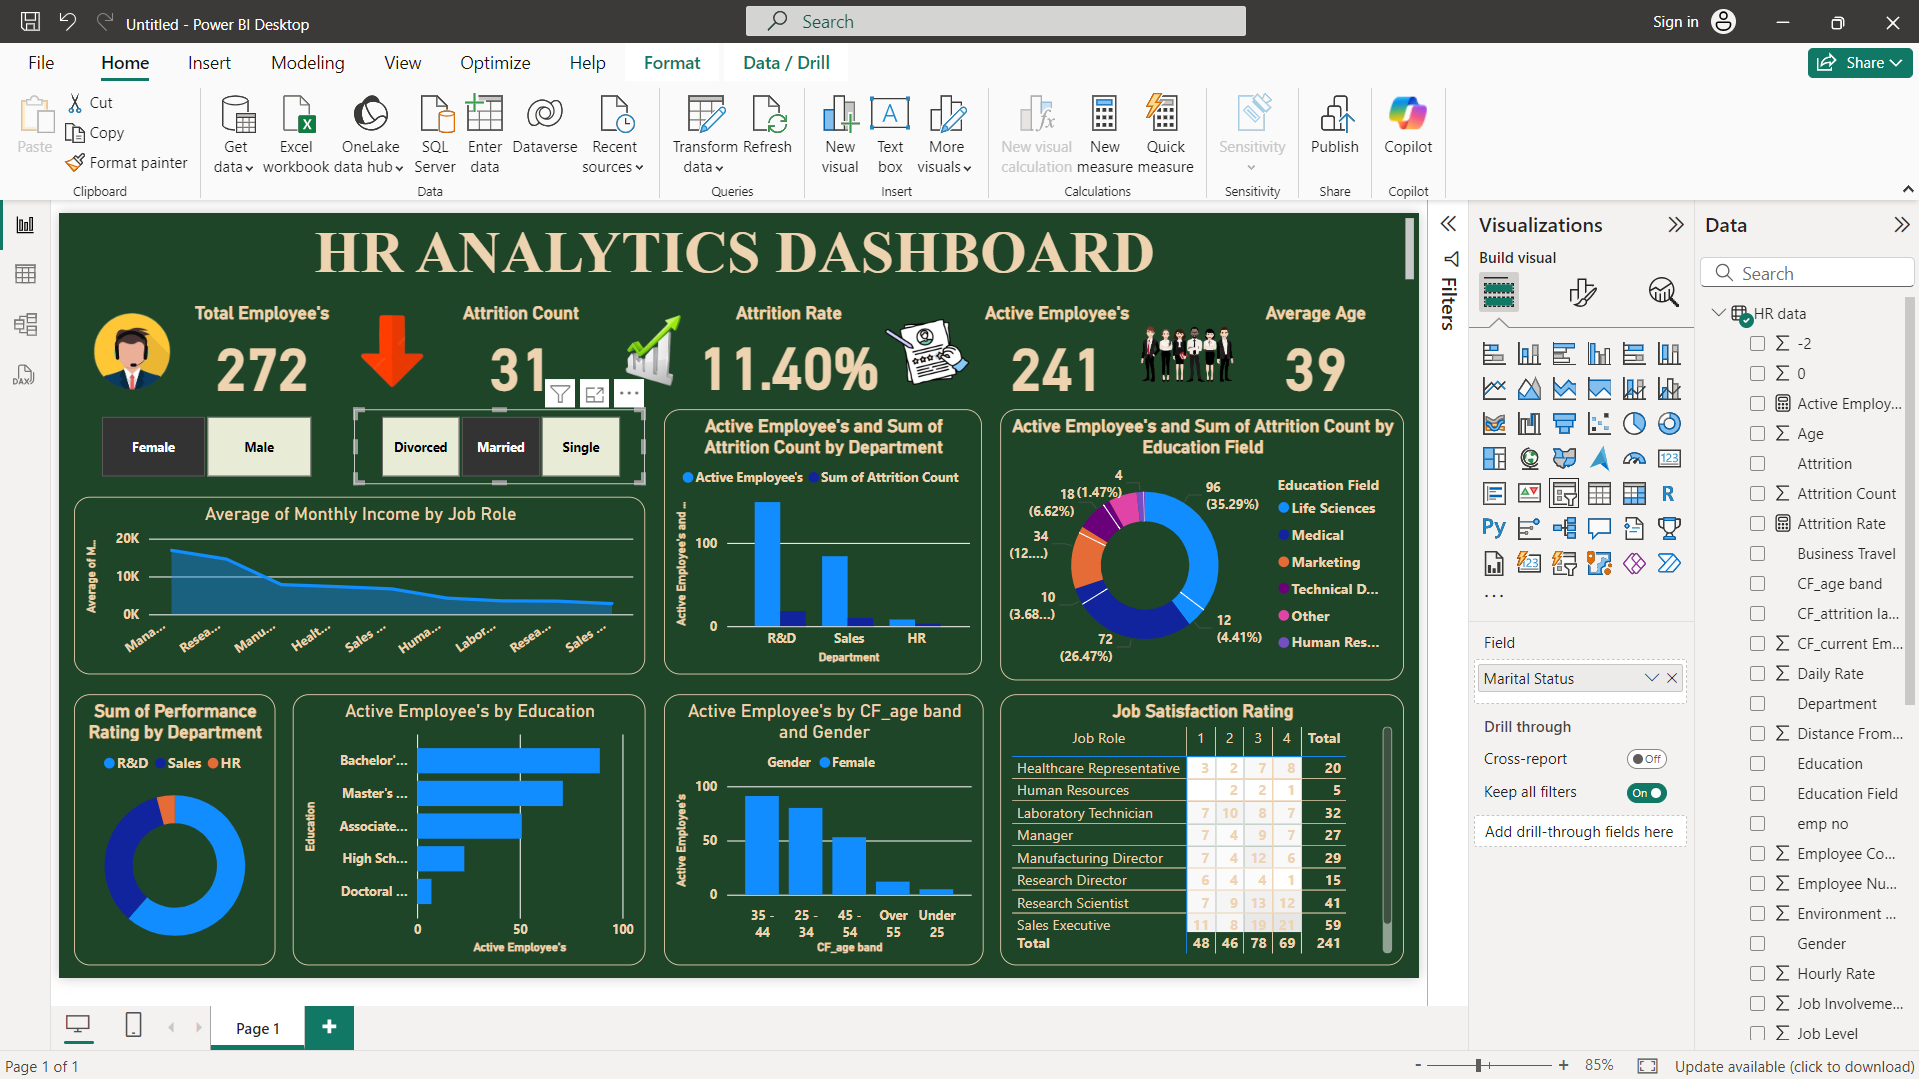

What the dashboard file says about the page in this screenshot:
{"tool":"powerbi","page":{"name":"Page 1","canvas":[1280,720],"ordinal":0},"visuals":[{"type":"card","title":"Total Employee''s","fields":{"Values":["Sum(HR data.Employee Count)"]},"box":[108.2,83.1,166,94.7],"z":0},{"type":"clusteredColumnChart","fields":{"Category":["HR data.Department"],"Y":["HR data.Active Employee's","Sum(HR data.Attrition Count)"]},"box":[569.5,185.2,299.1,249.7],"z":0},{"type":"card","title":"Average Age","fields":{"Values":["Avg(HR data.Age)"]},"box":[1100.5,83.1,166,94.7],"z":1000},{"type":"donutChart","fields":{"Y":["HR data.Active Employee's","Sum(HR data.Attrition Count)"],"Category":["HR data.Education Field"]},"box":[886.5,185.2,380.1,255.2],"z":1000},{"type":"card","title":"Active Employee''s","fields":{"Values":["HR data.Active Employee's"]},"box":[856.8,83.1,166,94.7],"z":2000},{"type":"columnChart","fields":{"Y":["HR data.Active Employee's"],"Category":["HR data.CF_age band"],"Series":["HR data.Gender"]},"box":[569.5,452.8,300.5,255.2],"z":2000},{"type":"card","title":"Attrition Rate","fields":{"Values":["HR data.Attrition Rate"]},"box":[595.7,83.4,183.5,94.1],"z":3000},{"type":"pivotTable","title":"Job Satisfaction Rating","fields":{"Rows":["HR data.Job Role"],"Columns":["HR data.Job Satisfaction"],"Values":["HR data.Active Employee's"]},"box":[886.5,452.8,380.1,255.2],"z":3000},{"type":"card","title":"Attrition Count","fields":{"Values":["Sum(HR data.Attrition Count)"]},"box":[351.9,83.1,166,94.7],"z":4000},{"type":"donutChart","fields":{"Y":["Sum(HR data.Performance Rating)"],"Category":["HR data.Department"]},"box":[13.7,452.8,189.4,255.2],"z":4000},{"type":"clusteredBarChart","fields":{"Category":["HR data.Education"],"Y":["HR data.Active Employee's"]},"box":[219.6,452.8,332.1,255.2],"z":5000},{"type":"areaChart","fields":{"Category":["HR data.Job Role"],"Y":["Avg(HR data.Monthly Income)"]},"box":[13.7,267.6,537.9,167.4],"z":6000},{"type":"slicer","fields":{"Values":["HR data.Gender"]},"box":[13.7,185.2,247,70],"z":7000},{"type":"slicer","fields":{"Values":["HR data.Marital Status"]},"box":[277.2,185.2,274.4,70],"z":8000},{"type":"image","box":[768,79.9,100,101.2],"z":10000},{"type":"image","box":[263,80.4,100.2,100.2],"z":11000},{"type":"image","box":[1011.6,80.4,100.2,100.2],"z":12000},{"type":"image","box":[506.7,80.4,100.2,100.2],"z":13000},{"type":"image","box":[19.2,80.4,100.2,100.2],"z":14000},{"type":"textbox","box":[0,0,1280.3,78.2],"z":15000}]}

Visuals, with their boxes on the page's 1280x720 design canvas (x1, y1, x2, y2). These are canvas units, not pixel positions in the 1919x1079 screenshot, which may show the page scaled, cropped or inside an application window:
"Total Employee''s" card: x1=108, y1=83, x2=274, y2=178
clusteredColumnChart - HR data.Department x HR data.Active Employee's: x1=570, y1=185, x2=869, y2=435
"Average Age" card: x1=1100, y1=83, x2=1266, y2=178
donutChart - HR data.Active Employee's x Sum(HR data.Attrition Count): x1=886, y1=185, x2=1267, y2=440
"Active Employee''s" card: x1=857, y1=83, x2=1023, y2=178
columnChart - HR data.Active Employee's x HR data.CF_age band: x1=570, y1=453, x2=870, y2=708
"Attrition Rate" card: x1=596, y1=83, x2=779, y2=178
"Job Satisfaction Rating" pivotTable: x1=886, y1=453, x2=1267, y2=708
"Attrition Count" card: x1=352, y1=83, x2=518, y2=178
donutChart - Sum(HR data.Performance Rating) x HR data.Department: x1=14, y1=453, x2=203, y2=708
clusteredBarChart - HR data.Education x HR data.Active Employee's: x1=220, y1=453, x2=552, y2=708
areaChart - HR data.Job Role x Avg(HR data.Monthly Income): x1=14, y1=268, x2=552, y2=435
slicer - HR data.Gender: x1=14, y1=185, x2=261, y2=255
slicer - HR data.Marital Status: x1=277, y1=185, x2=552, y2=255
image: x1=768, y1=80, x2=868, y2=181
image: x1=263, y1=80, x2=363, y2=181
image: x1=1012, y1=80, x2=1112, y2=181
image: x1=507, y1=80, x2=607, y2=181
image: x1=19, y1=80, x2=119, y2=181
textbox: x1=0, y1=0, x2=1280, y2=78
